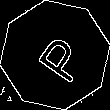P_NW: (24, 25, 86, 85)
